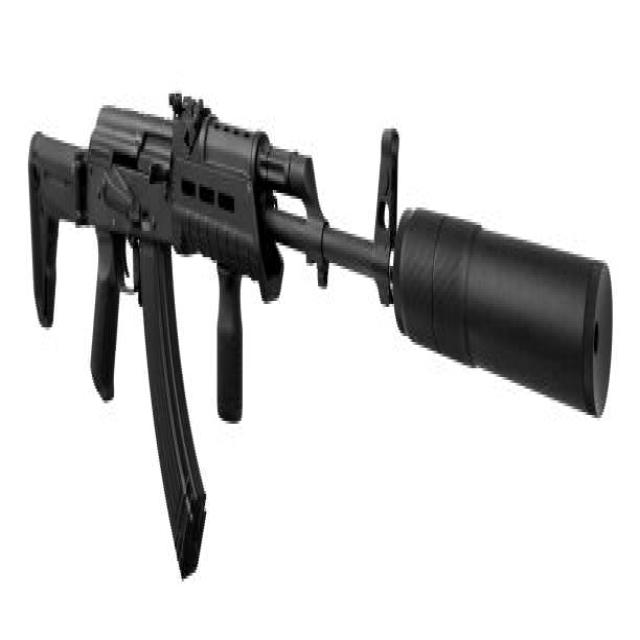rifle: (26, 77, 616, 597)
